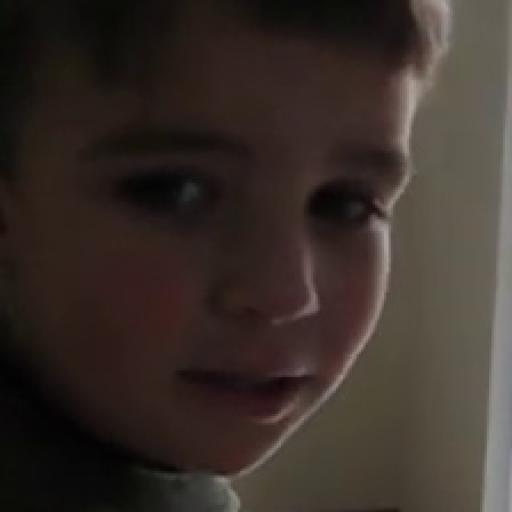Autism: (15, 16, 512, 512)
